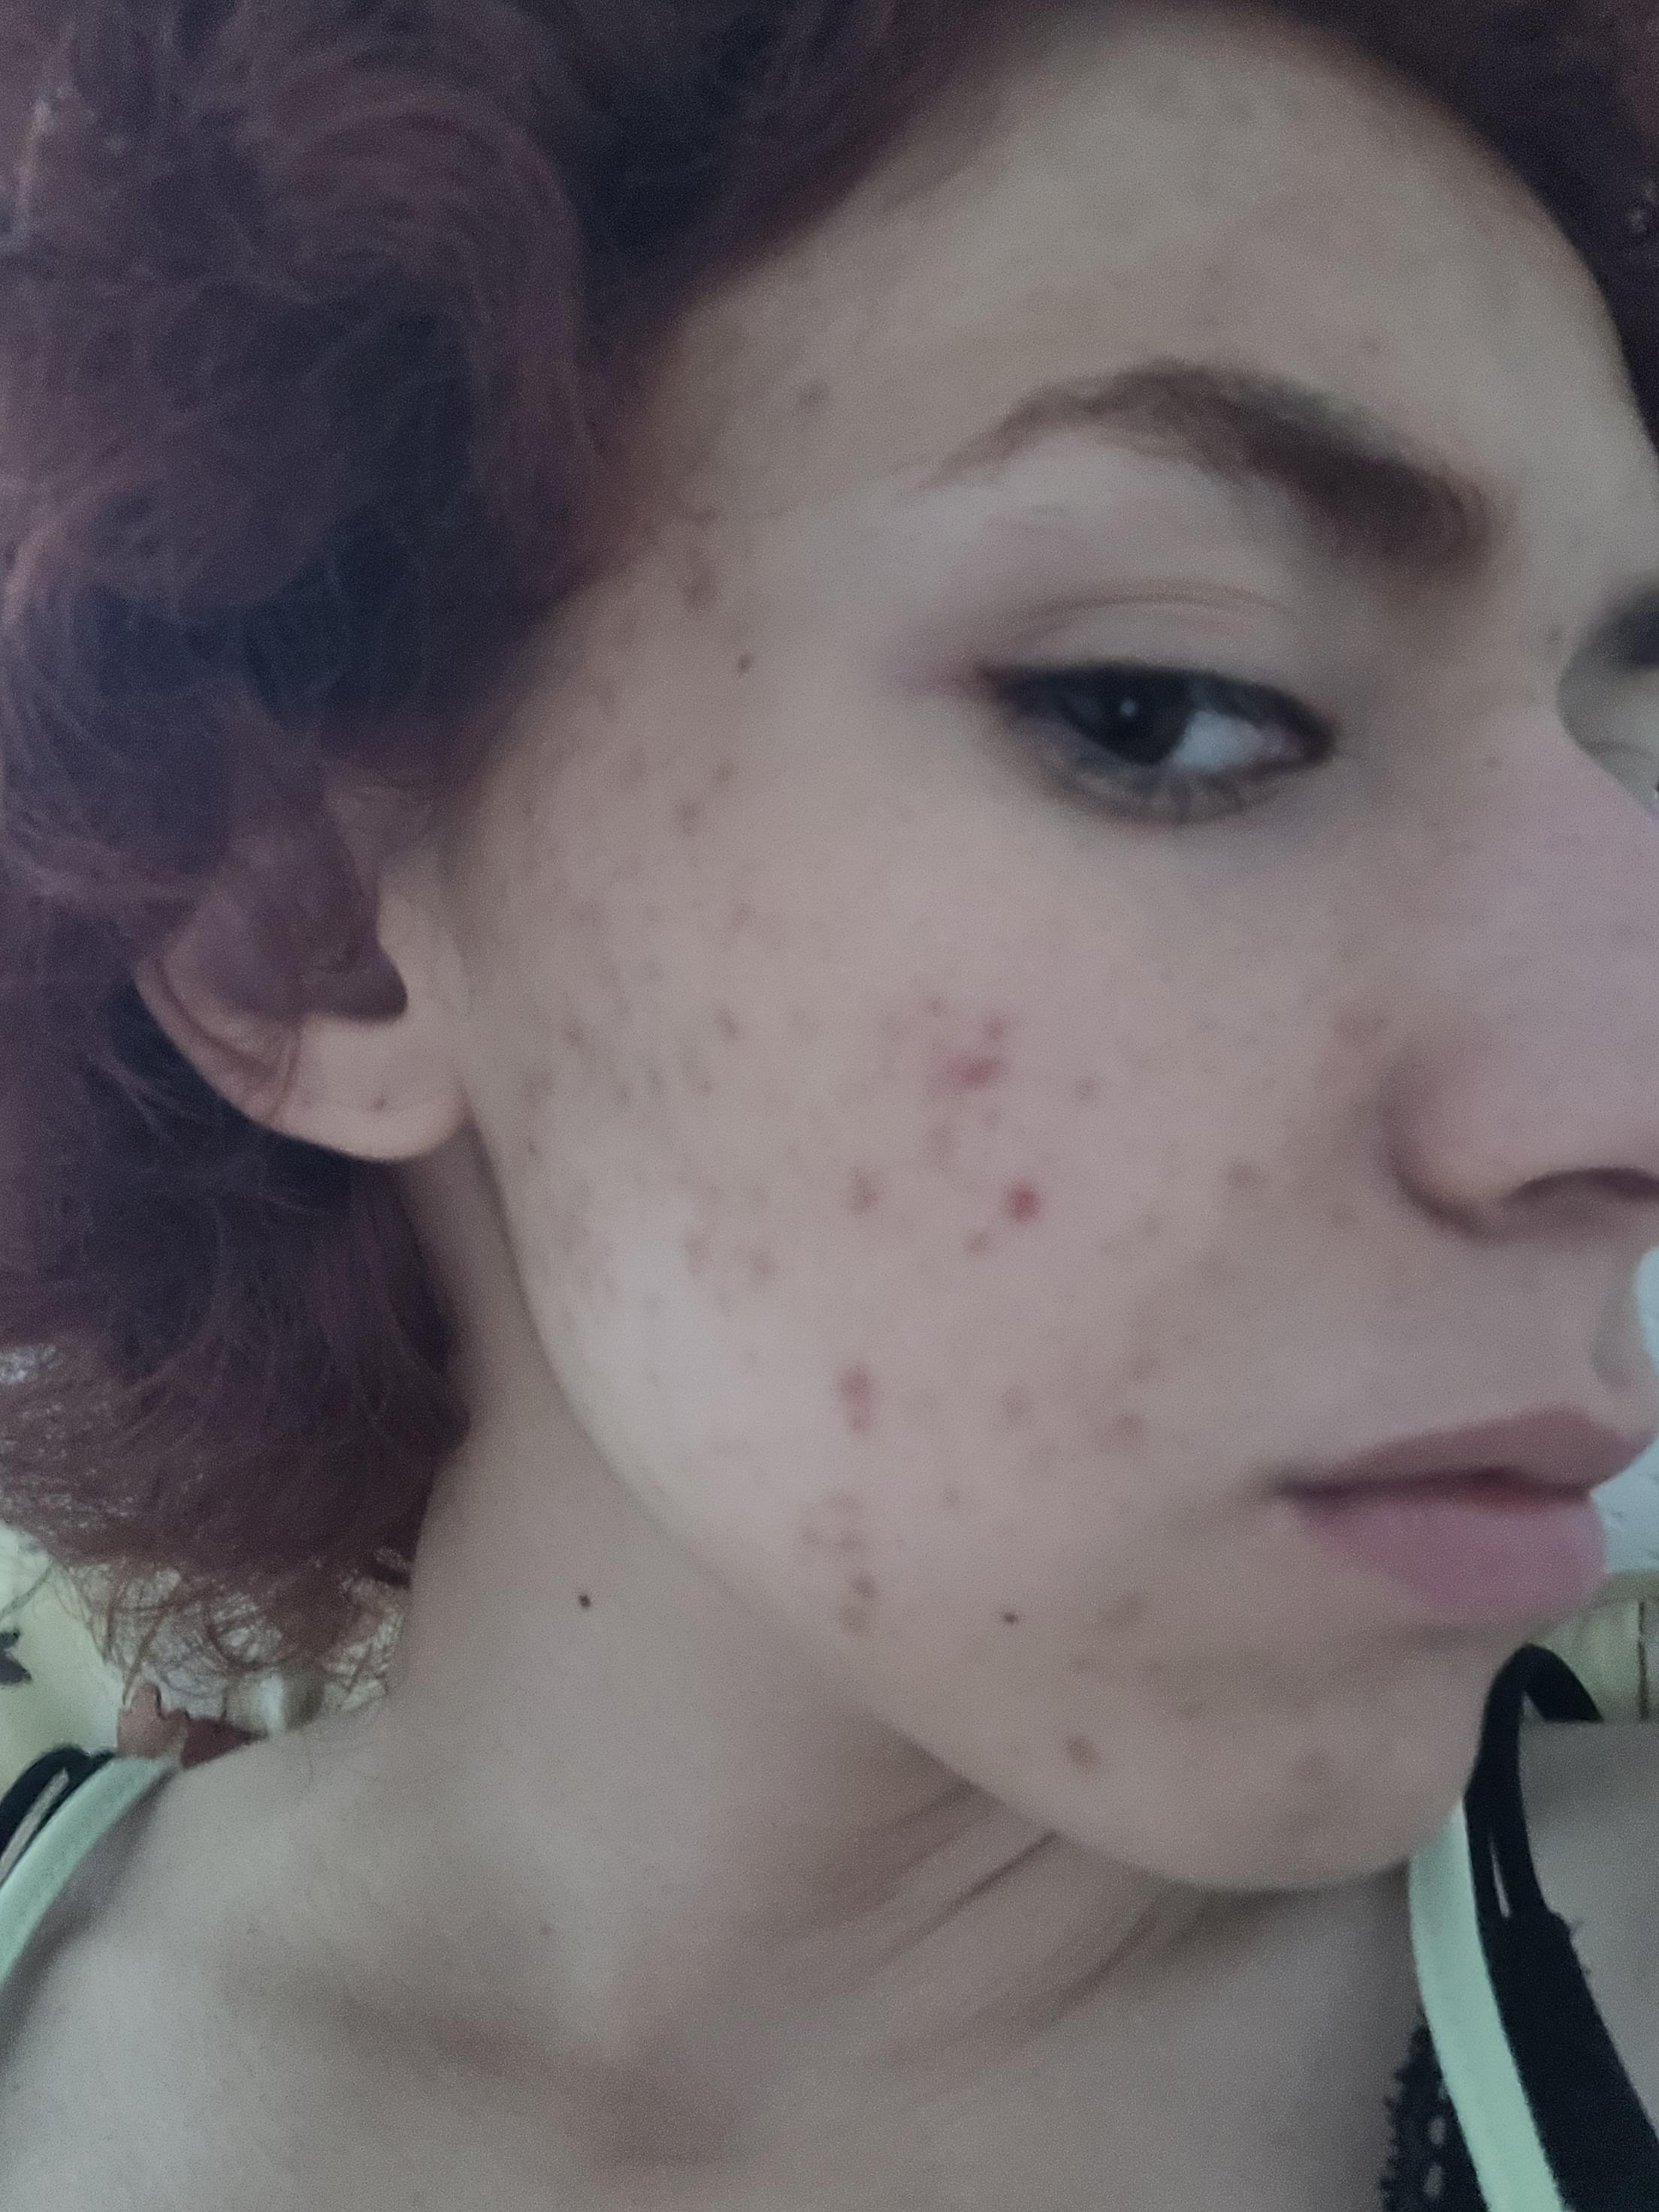Acne: (789, 1486, 882, 1561), (662, 756, 739, 838), (925, 1043, 1012, 1115), (828, 1355, 882, 1451), (1107, 1346, 1154, 1453), (549, 1169, 599, 1266), (864, 986, 946, 1045), (835, 1566, 884, 1660), (601, 1057, 666, 1127), (1206, 1144, 1270, 1207), (1094, 1575, 1154, 1642), (664, 1226, 716, 1298), (519, 789, 558, 885), (786, 368, 838, 432), (997, 1172, 1051, 1230), (1054, 1724, 1110, 1778), (840, 1160, 885, 1224), (673, 1045, 718, 1108), (612, 737, 655, 799), (997, 1372, 1044, 1428), (511, 1064, 556, 1118), (671, 563, 723, 608), (1279, 1743, 1337, 1784), (561, 1005, 601, 1062), (734, 1242, 781, 1289), (746, 1174, 793, 1217), (974, 1010, 1019, 1054), (925, 1467, 967, 1514), (957, 1223, 997, 1271), (1051, 1639, 1100, 1676), (1194, 1251, 1232, 1291), (1131, 1211, 1175, 1245), (728, 890, 763, 930), (713, 1001, 741, 1049), (596, 676, 626, 718), (1075, 1069, 1105, 1101)
